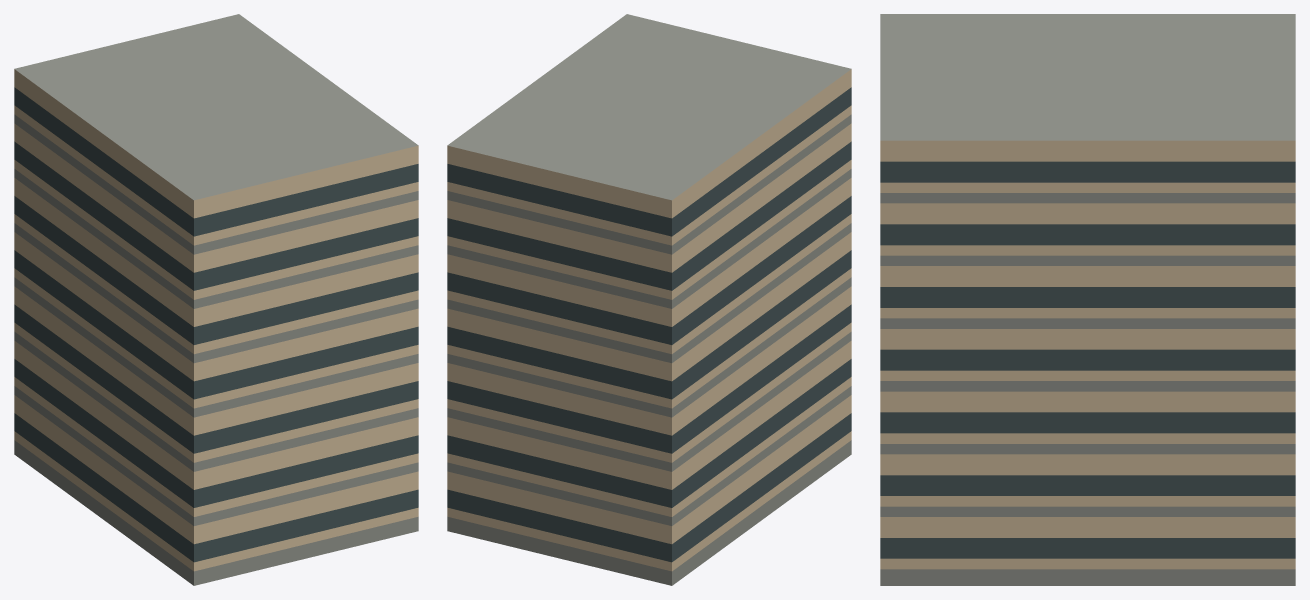
Rendered from far.fbx.
3 views of the same model, side by side, from view 1: azimuth 30°, elevation 25°; view 2: azimuth 150°, elevation 25°; view 3: azimuth 270°, elevation 25° (orthographic). The views are drawn at different scales.
Parts seen in each view (by area): view 1: a2001/400/far; view 2: a2001/400/far; view 3: a2001/400/far.
Boxes of the visible parts, box(x1,y1,x2,y2) form: a2001/400/far: box(14, 14, 418, 585); a2001/400/far: box(447, 14, 851, 585); a2001/400/far: box(880, 14, 1295, 585).
Bounding box in the file's own units: 13 × 21.3 × 18.
